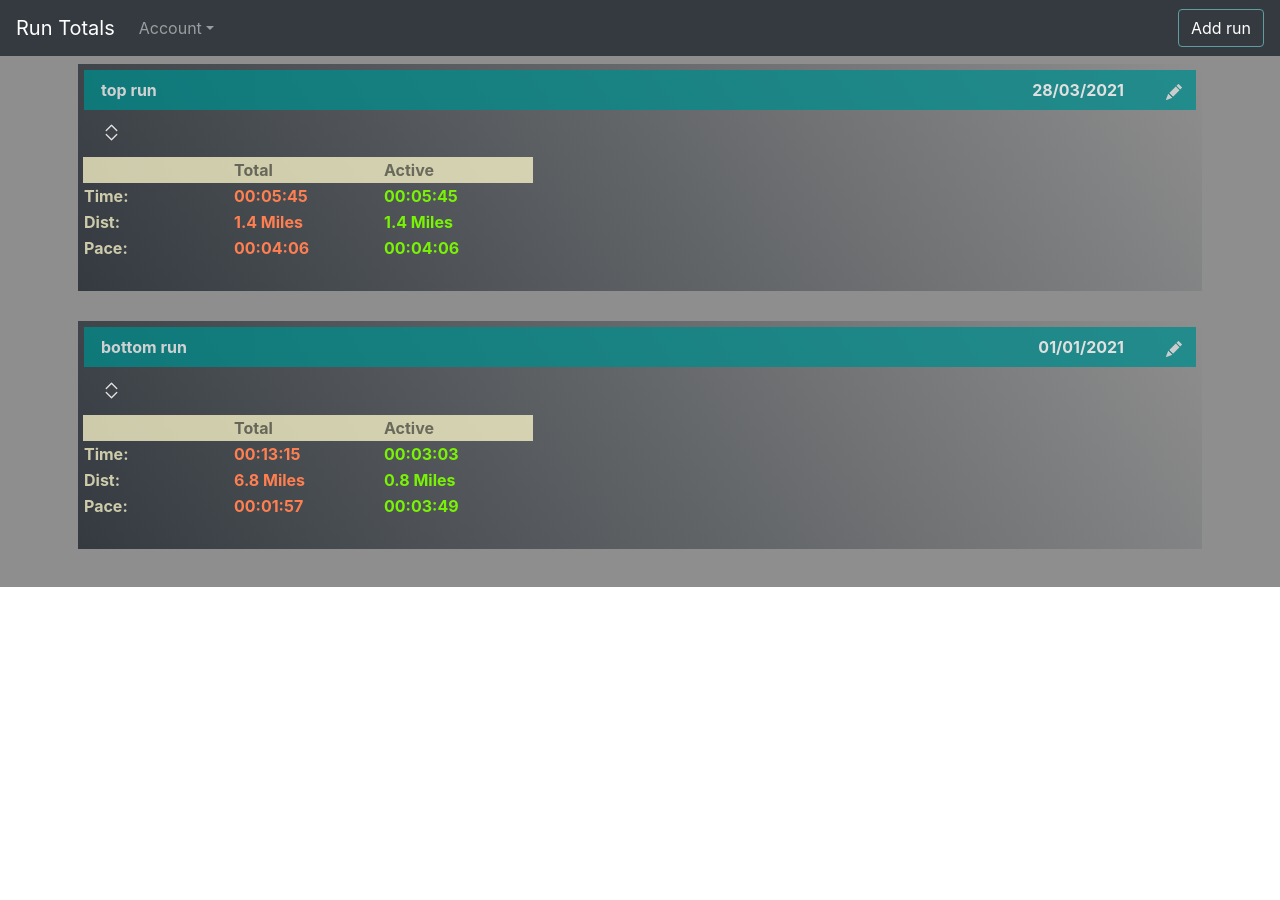
Scenario: Runs Main: Edit run › Updating a run › should show spinner while saving updates
The width and height of the screenshot is (1280, 900).
Click the button named "Edit Run" next to "28/03/2021": (1174, 90) [1154, 72, 1194, 108]
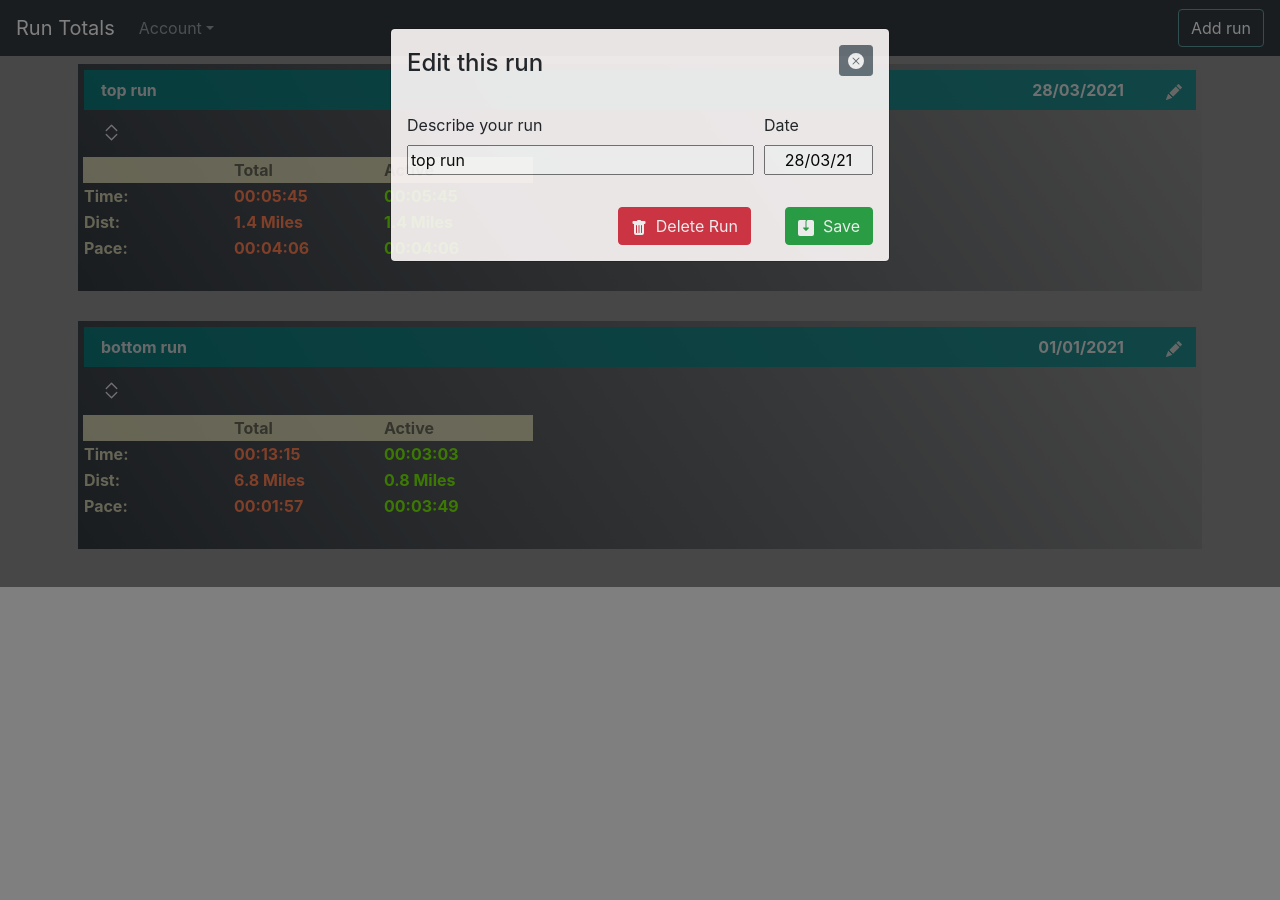
In the field with test id "edit-run-description-input": (580, 160) [407, 145, 754, 175], type " updated"
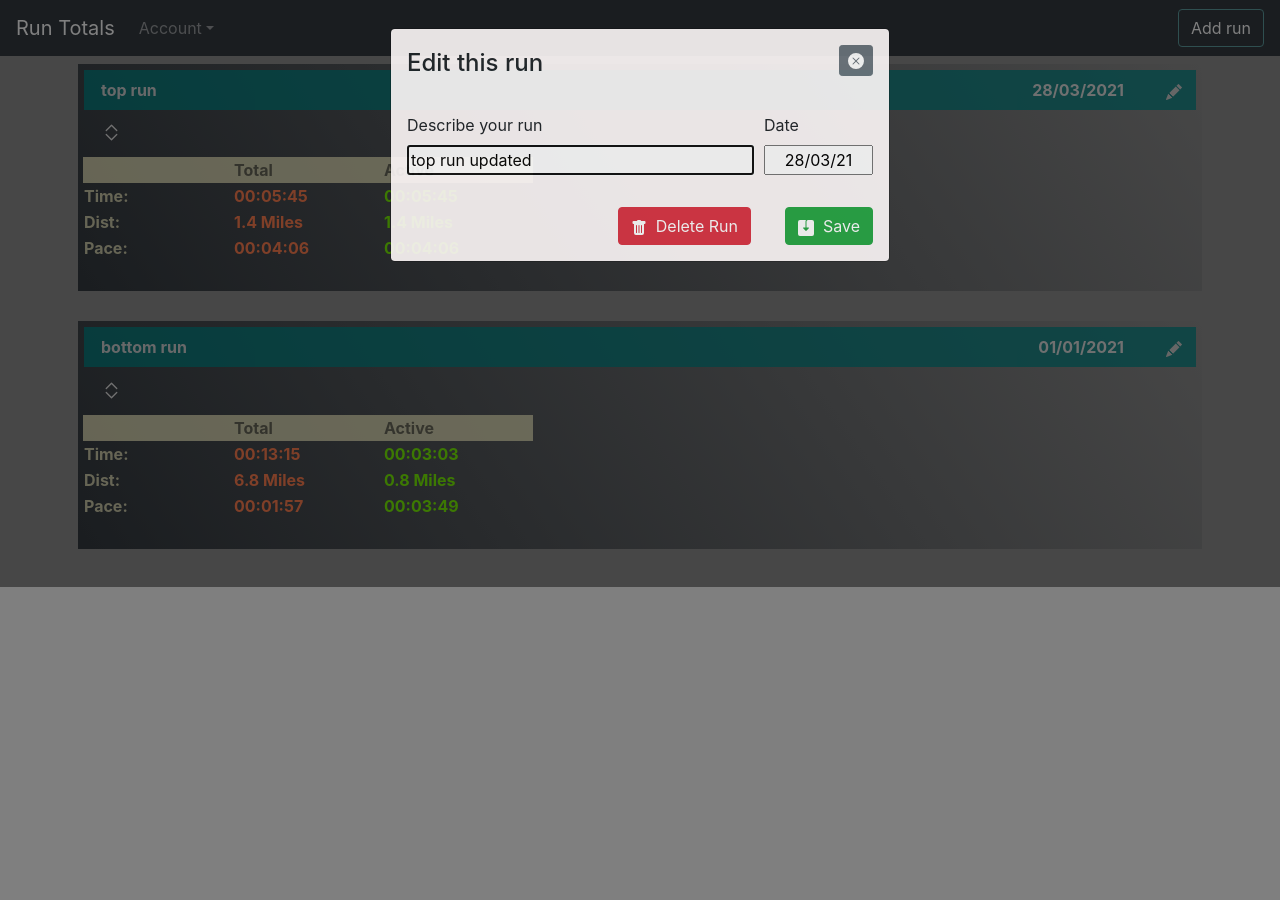
Click the button with test id "edit-run-save-button": (829, 226) [785, 207, 873, 245]
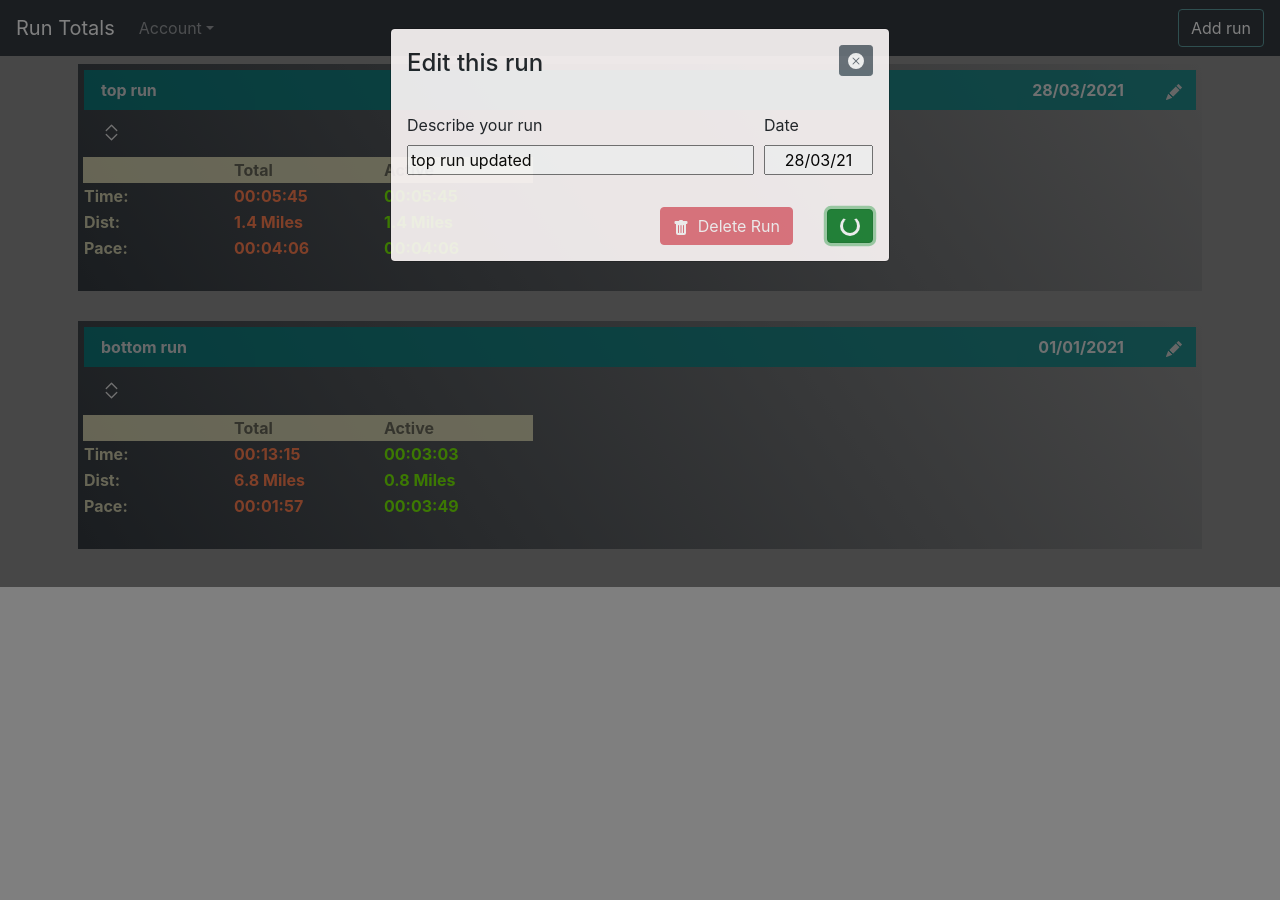
Expected: the element with test id "loader" is shown, [840, 216, 860, 236]
